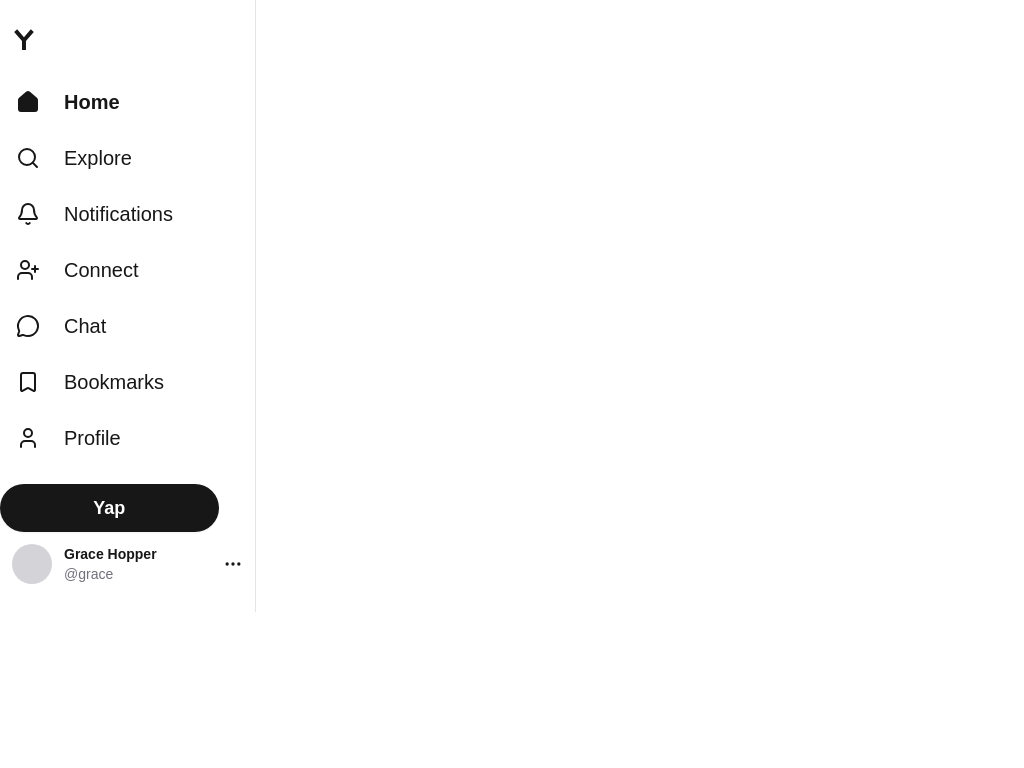
Scenario: Nav › scopes the log out option to the current user
Step 1. Click the button "Grace Hopper @grace" → x=128, y=564, box [0,532,255,596]
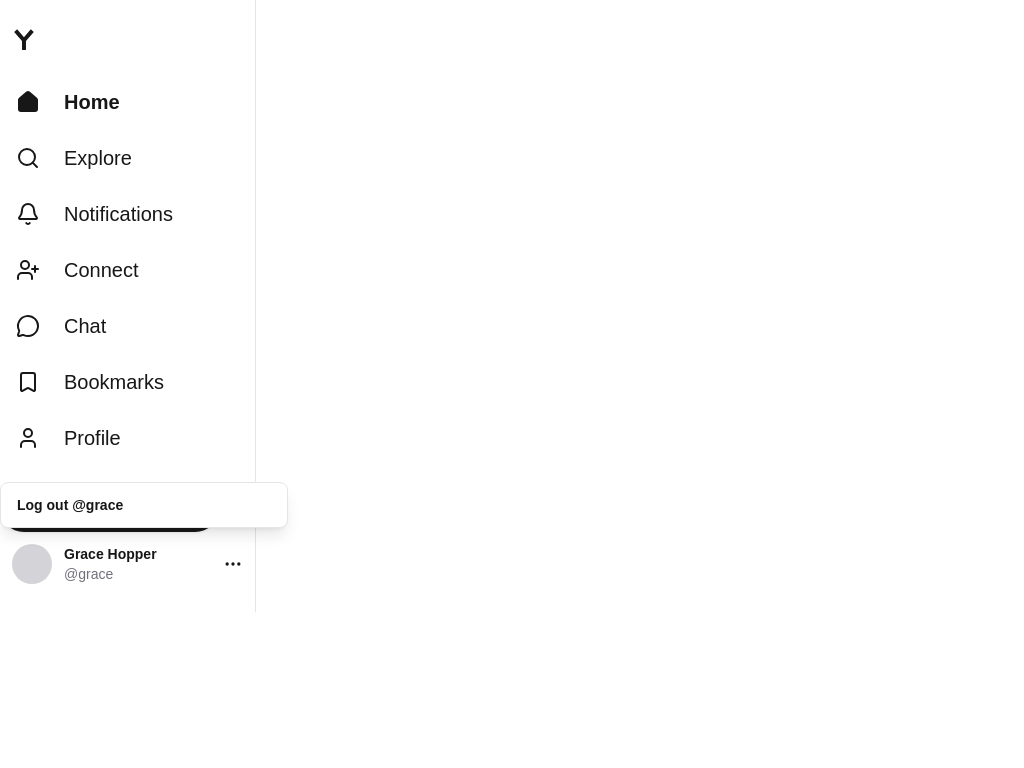
Expected: the link "Log out @grace" is shown, [17,497,123,513]
